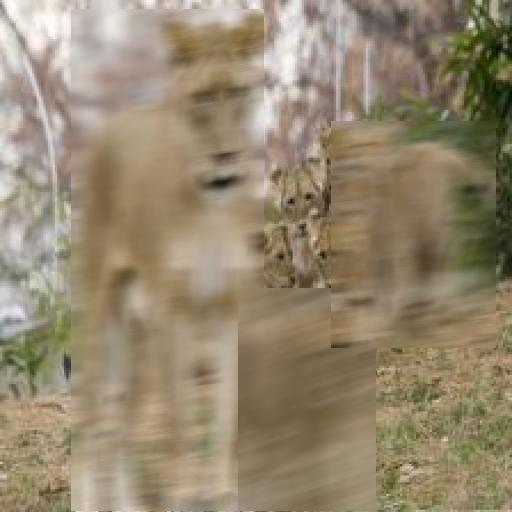lion: (71, 9, 264, 511), (331, 121, 496, 348), (238, 288, 376, 511)
